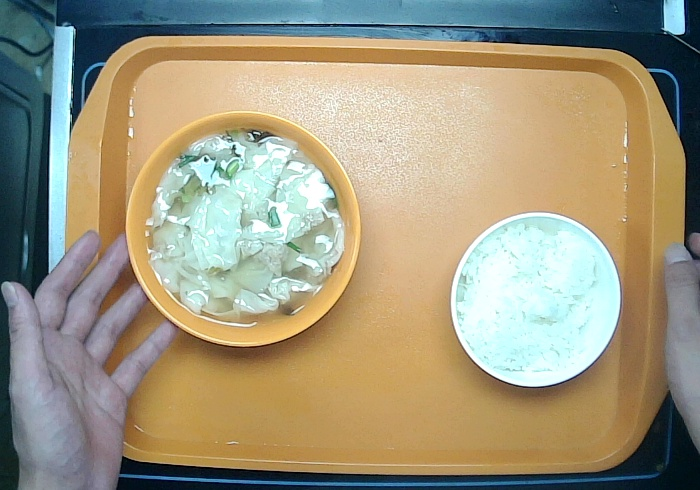NLDX-Fan_Wan: (447, 210, 623, 390)
NLDX-Hun_Tun_Wan: (123, 109, 363, 353)
